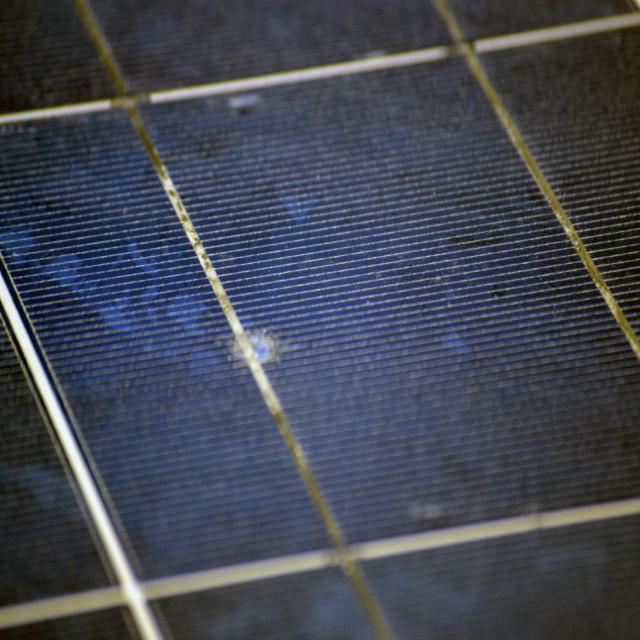Electrical-damage: (207, 302, 306, 378)
